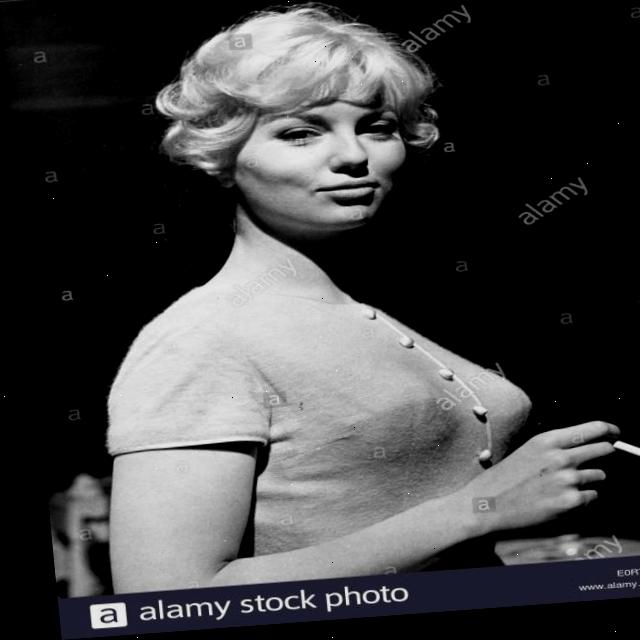cigarette: (585, 445, 640, 481)
